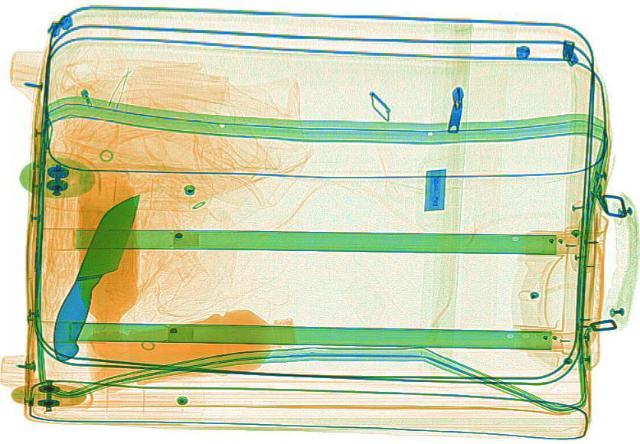Knife: (35, 190, 147, 360)
